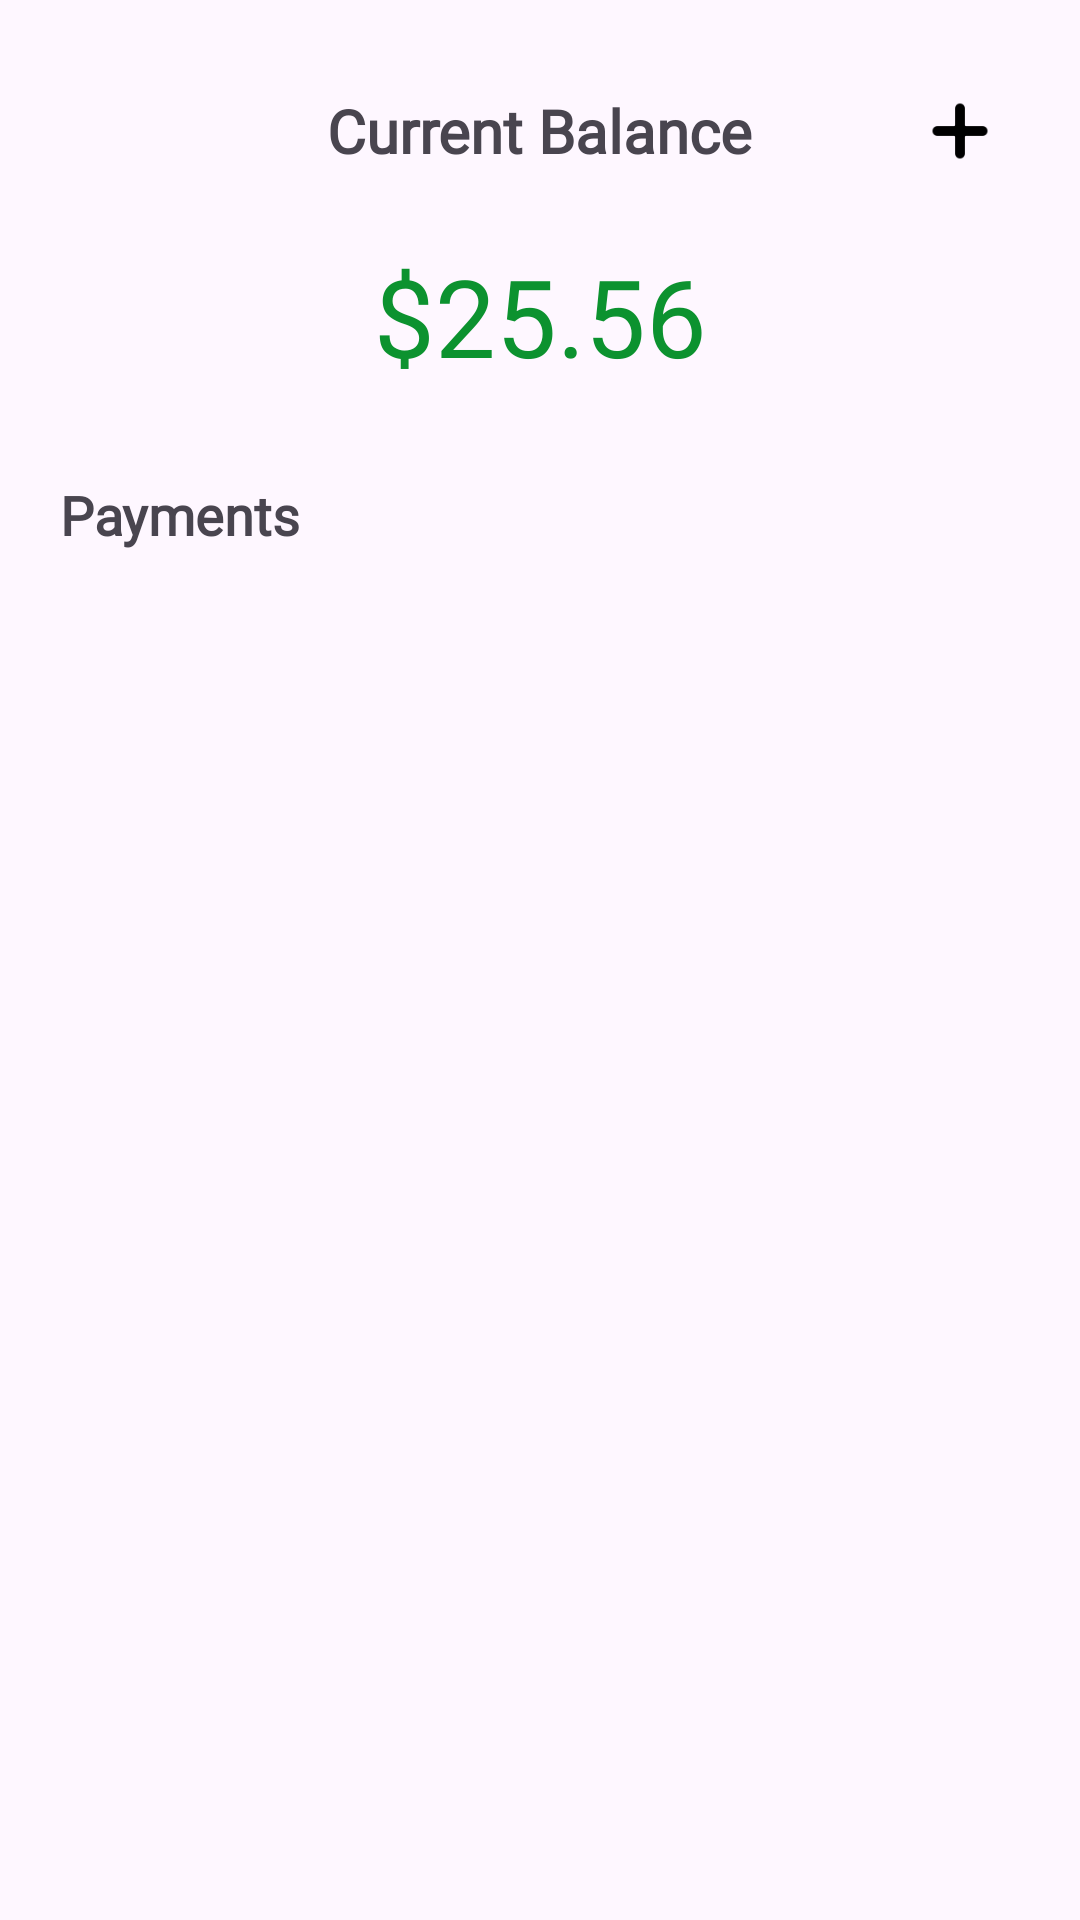

Screen size 1080w x 1920h. Icon name, then its box in pixels as (x1, y1, x2, y2):
plus: (932, 103, 988, 159)
